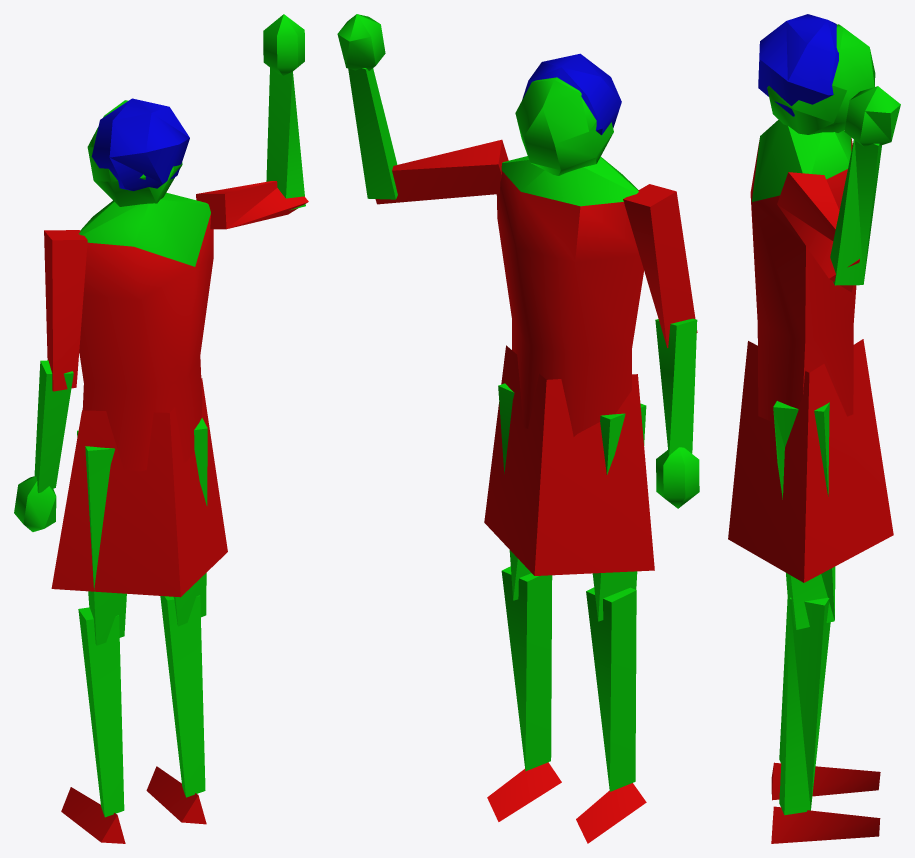
File: stand_fist_pump_lod1.glb
3 renders of one model, left to right at view 1: azimuth 30°, elevation 25°; view 2: azimuth 150°, elevation 25°; view 3: azimuth 270°, elevation 25°, orthographic. The views are drawn at different scales.
Parts seen in each view (by area): view 1: OUT_1; view 2: OUT_1; view 3: OUT_1.
Part boxes in pixels (<box>): OUT_1: <box>14,14,308,843</box>; OUT_1: <box>337,14,699,843</box>; OUT_1: <box>728,14,900,843</box>.
Bounding box in the file's own units: 0.764 × 1.75 × 0.3328.
